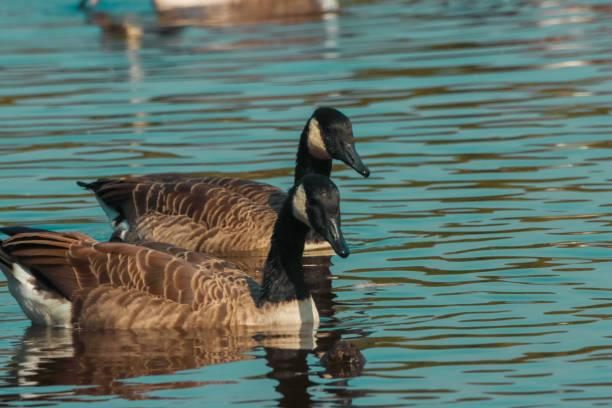Canadian-Goose: (0, 178, 347, 343), (80, 102, 374, 247)
